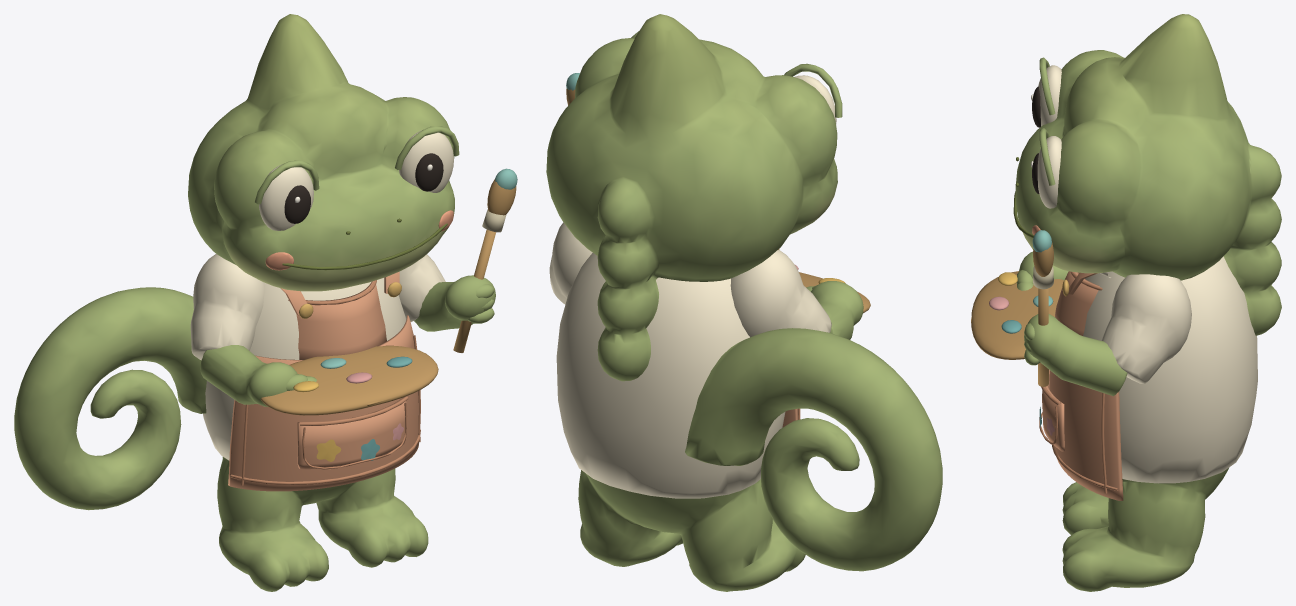
The model's file is art-chameleon-low.glb.
3 renders of one model, left to right at view 1: azimuth 30°, elevation 25°; view 2: azimuth 150°, elevation 25°; view 3: azimuth 270°, elevation 25°, orthographic. The views are drawn at different scales.
Visible parts, largest first — view 1: Body, Static peach art apron, wood_palette, Static cream, cream short sleeve, green articulated grip, green articulated grip.001, Apron stitched edges, cream_eye.L, cream short sleeve.001, cream_eye.R, Static sage skin detail (+5 smaller); view 2: Body, Static cream, cream short sleeve, green articulated grip, cream short sleeve.001, Static sage skin detail; view 3: Body, Static cream, Static peach art apron, cream short sleeve.001, green articulated grip.001, wood_palette, cream_eye.R, Apron stitched edges, Static sage skin detail, cream_eye.L, pointed_brush_bristles, green articulated grip (+1 smaller).
Part boxes in pixels (bbox=[...]): Body: bbox=[14, 14, 454, 591]; Static peach art apron: bbox=[228, 271, 418, 491]; wood_palette: bbox=[260, 345, 438, 415]; Static cream: bbox=[203, 278, 406, 460]; cream short sleeve: bbox=[190, 254, 264, 360]; green articulated grip: bbox=[200, 345, 316, 406]; green articulated grip.001: bbox=[414, 275, 495, 331]; Apron stitched edges: bbox=[230, 280, 420, 485]; cream_eye.L: bbox=[259, 164, 313, 230]; cream short sleeve.001: bbox=[399, 254, 445, 321]; cream_eye.R: bbox=[399, 130, 453, 192]; Static sage skin detail: bbox=[255, 126, 459, 204]; Body: bbox=[546, 14, 942, 591]; Static cream: bbox=[556, 253, 785, 498]; cream short sleeve: bbox=[730, 250, 831, 337]; green articulated grip: bbox=[806, 281, 863, 339]; cream short sleeve.001: bbox=[549, 222, 592, 304]; Static sage skin detail: bbox=[631, 31, 842, 117]; Body: bbox=[1015, 14, 1281, 591]; Static cream: bbox=[1083, 256, 1257, 483]; Static peach art apron: bbox=[1042, 271, 1123, 500]; cream short sleeve.001: bbox=[1101, 274, 1191, 383]; green articulated grip.001: bbox=[1024, 314, 1127, 396]; wood_palette: bbox=[971, 271, 1063, 359]; cream_eye.R: bbox=[1037, 136, 1061, 208]; Apron stitched edges: bbox=[1039, 271, 1117, 493]; Static sage skin detail: bbox=[1039, 57, 1055, 185]; cream_eye.L: bbox=[1038, 65, 1061, 126]; pointed_brush_bristles: bbox=[1032, 230, 1053, 276]; green articulated grip: bbox=[1016, 251, 1068, 290].
Bounding box in the file's own units: 1.43 × 1.71 × 0.8903.
